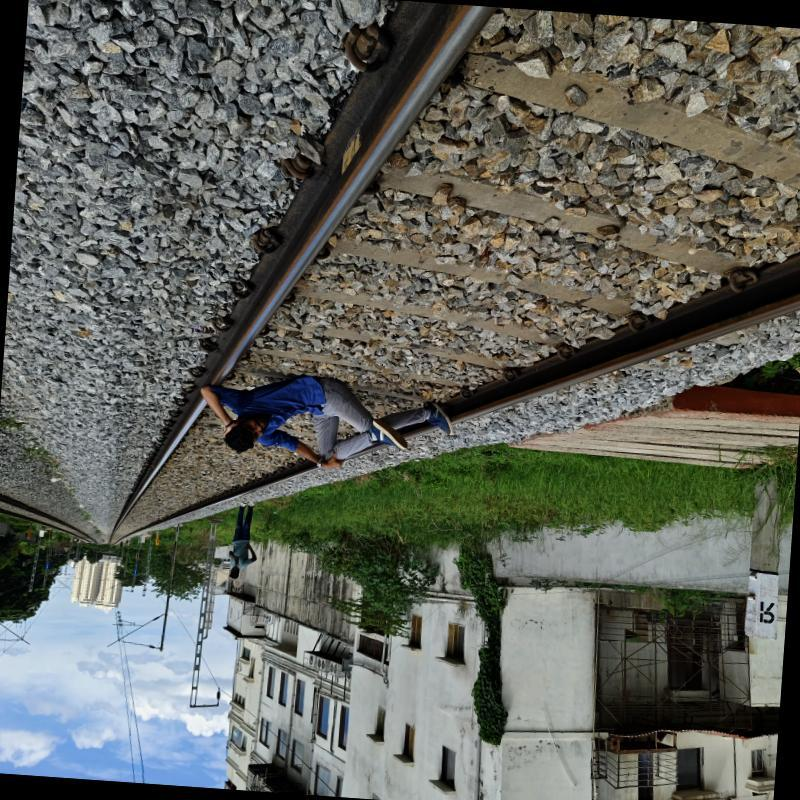sleeping: (189, 367, 466, 475)
